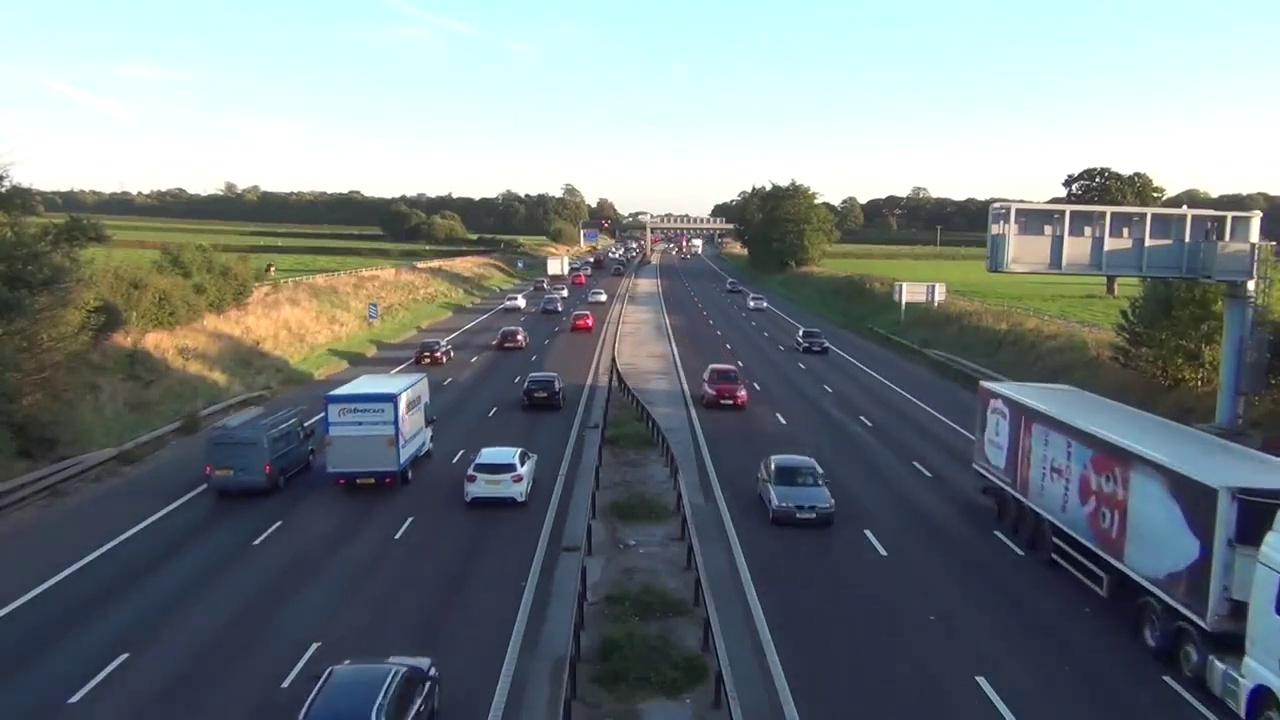bus: (297, 652, 441, 720), (756, 454, 837, 525), (461, 446, 538, 502), (701, 362, 749, 408), (521, 371, 568, 408), (413, 339, 456, 367), (796, 324, 829, 353), (495, 326, 530, 349), (570, 311, 595, 333), (539, 297, 564, 314), (503, 293, 528, 310), (745, 293, 769, 310), (585, 288, 608, 304), (725, 280, 741, 293)
car: (973, 379, 1280, 720), (322, 374, 435, 487), (204, 406, 317, 491)
